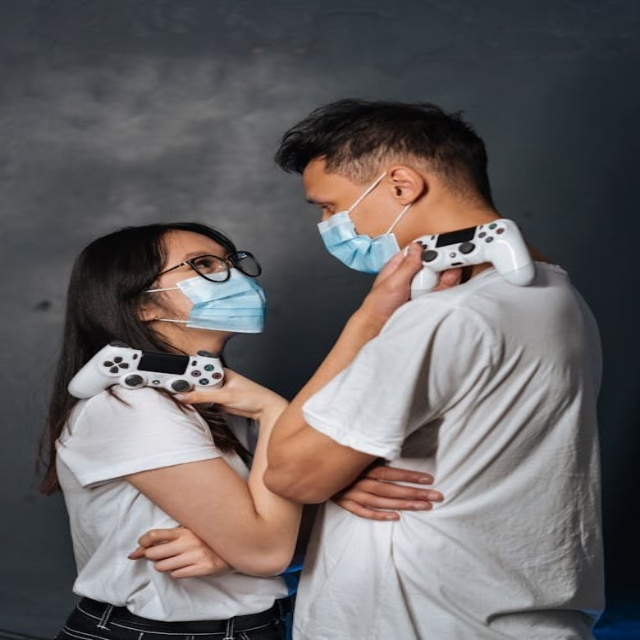Gafas: (146, 251, 262, 287)
Mascara: (317, 176, 410, 275), (149, 262, 269, 333)
Sin_gafas: (301, 190, 348, 218)
Sin_guantes: (170, 354, 280, 420), (332, 462, 440, 520), (129, 524, 229, 580), (361, 233, 430, 311)
